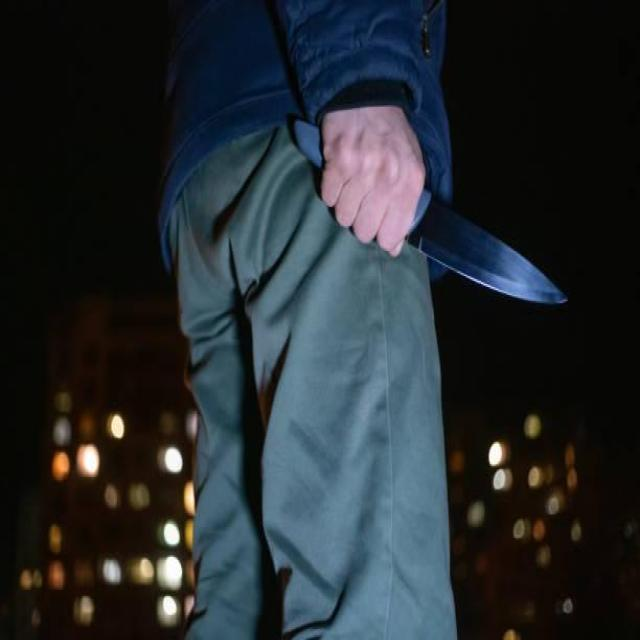faca: (288, 64, 574, 334)
